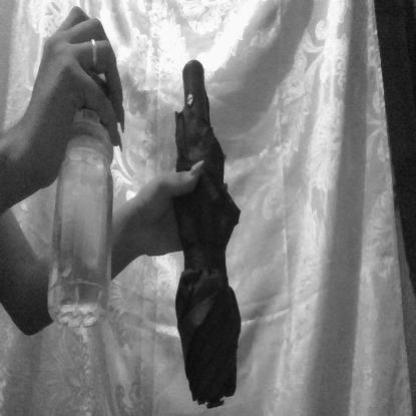Plastic Bottle: (38, 10, 123, 361)
